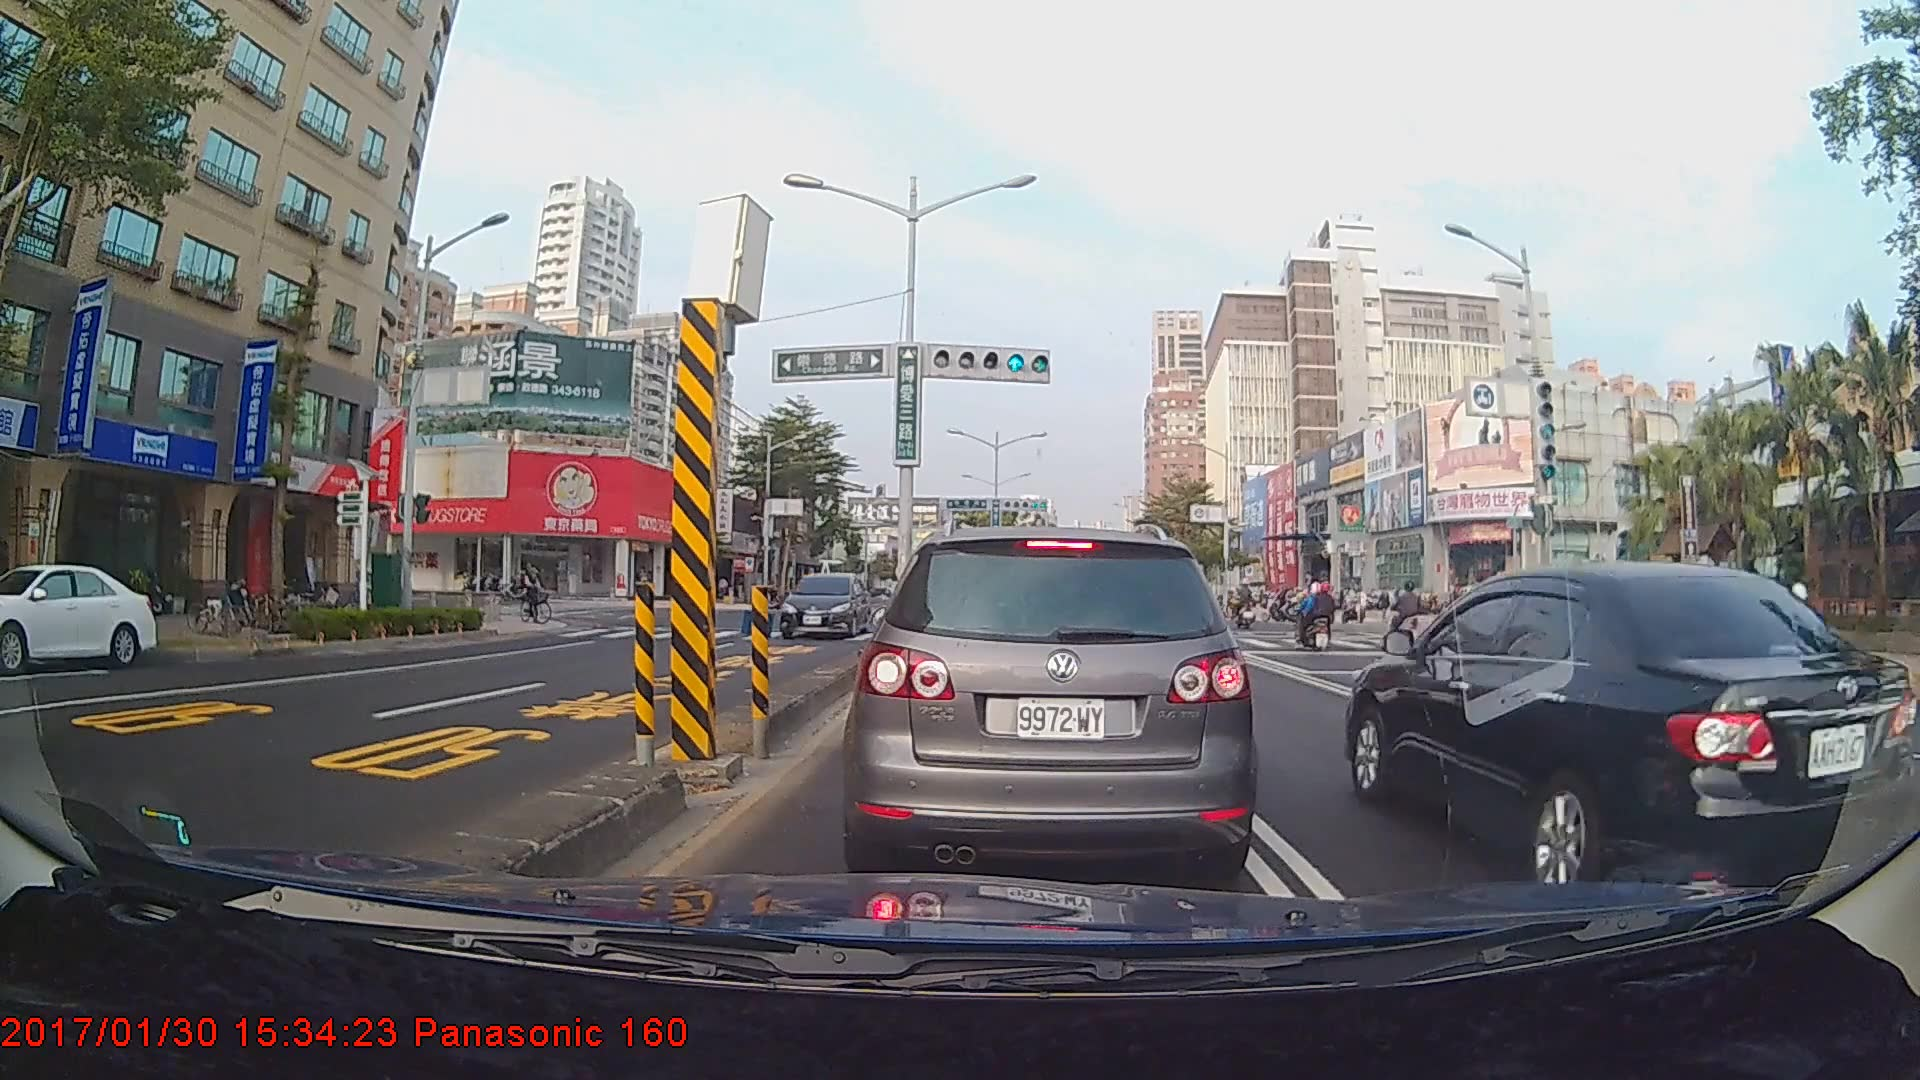rider: (1457, 570, 1511, 664), (1292, 582, 1346, 657), (1390, 580, 1436, 657), (518, 559, 561, 629)
vehicle: (1342, 559, 1915, 884), (852, 521, 1251, 883), (0, 561, 157, 671), (779, 572, 873, 638)
